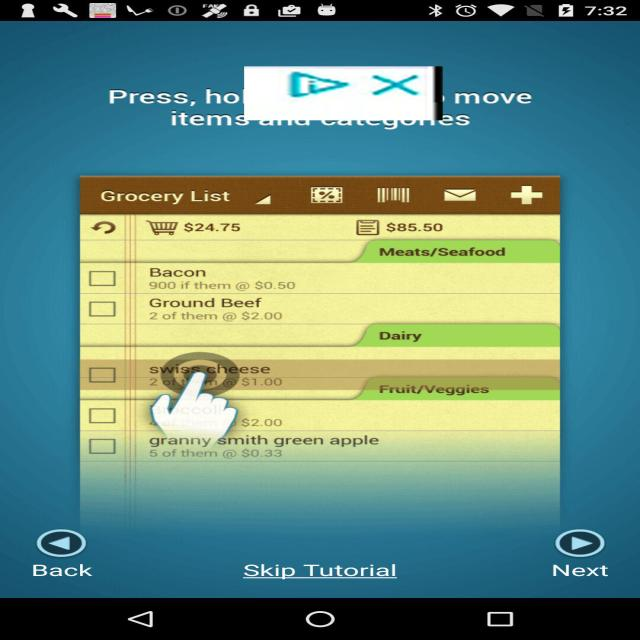sneaking: (244, 66, 443, 120)
